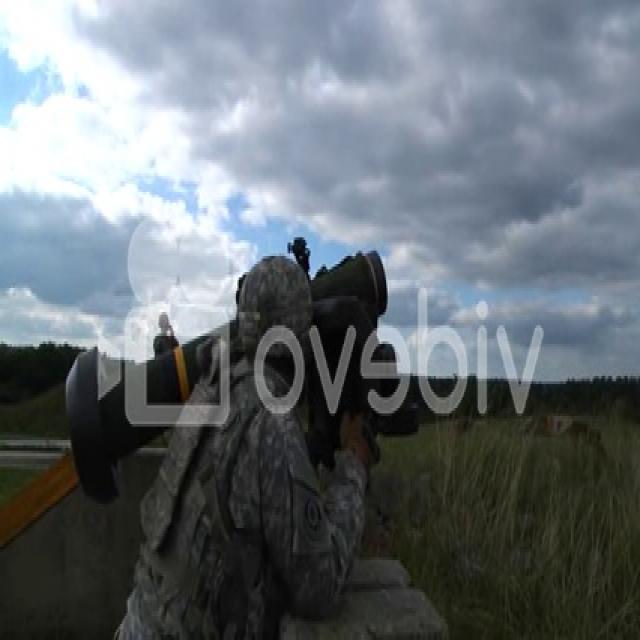rocket: (68, 318, 236, 501)
